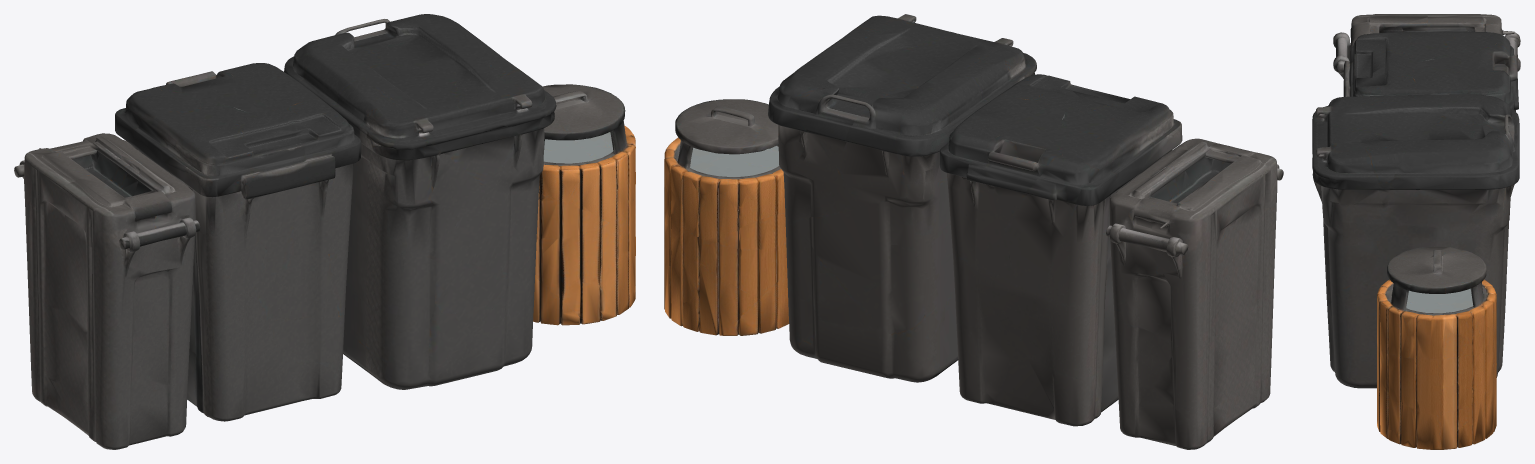
File: bins.glb
3 renders of one model, left to right at view 1: azimuth 30°, elevation 25°; view 2: azimuth 150°, elevation 25°; view 3: azimuth 270°, elevation 25°, orthographic. The views are drawn at different scales.
Parts seen in each view (by area): view 1: mesh_node; view 2: mesh_node; view 3: mesh_node.
Boxes of the visible parts, box(x1,y1,x2,y2) form: mesh_node: box(14, 14, 635, 449); mesh_node: box(664, 14, 1283, 449); mesh_node: box(1312, 14, 1520, 449).
Bounding box in the file's own units: 1.9 × 0.9017 × 0.7133.
Materials: 1 (1 with a texture image).
